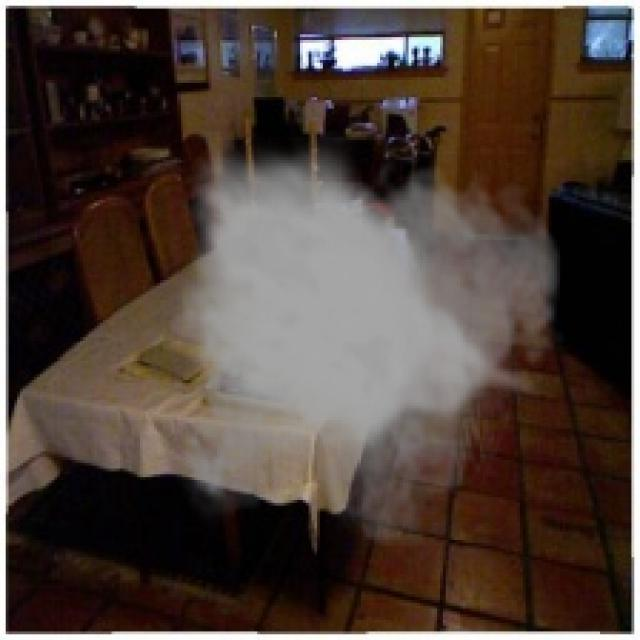Smoke: (171, 131, 566, 546)
